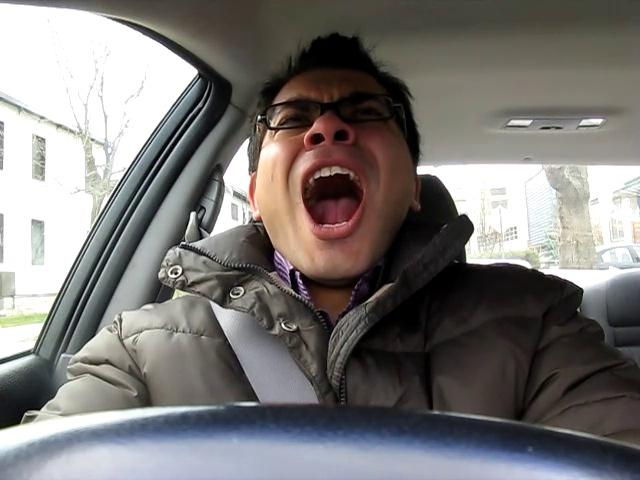close_eyeL: (264, 107, 320, 145)
close_eyeR: (330, 95, 408, 136)
yawn: (278, 154, 384, 240)
